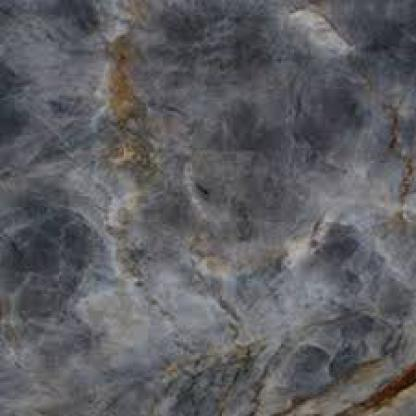Metamorphic_Quartize: (6, 4, 414, 414)
